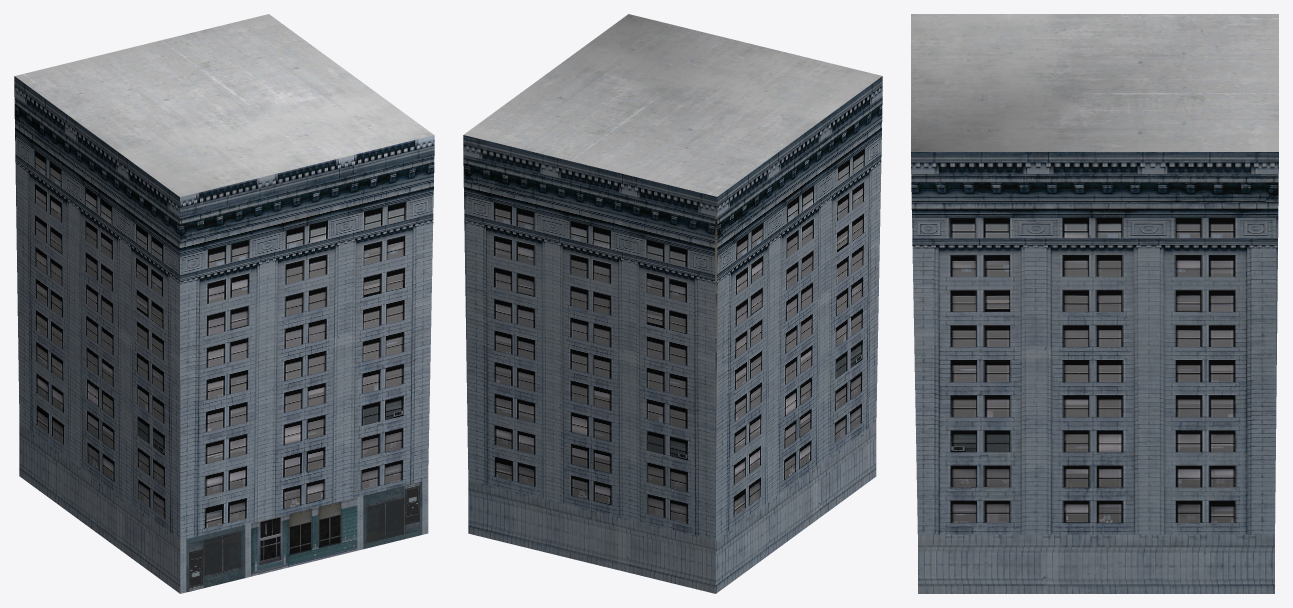
Rendered from Classical Building 08.FBX.
3 views of the same model, side by side, from view 1: azimuth 30°, elevation 25°; view 2: azimuth 150°, elevation 25°; view 3: azimuth 270°, elevation 25° (orthographic). The views are drawn at different scales.
Visible parts, largest first — view 1: Classical Building 08; view 2: Classical Building 08; view 3: Classical Building 08.
Part boxes in pixels (x1,y1,x2,y2): Classical Building 08: (14,14,434,593); Classical Building 08: (463,14,882,593); Classical Building 08: (911,14,1278,593).
Size of the model in its own units: 521 by 783 by 588.
